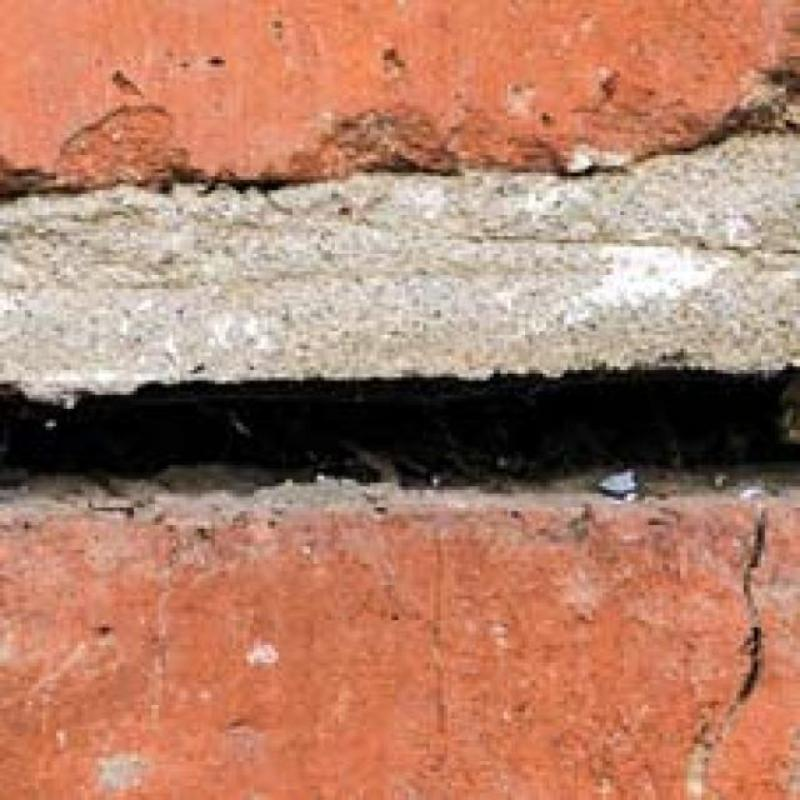pothole: (0, 369, 799, 489), (719, 506, 776, 725)
